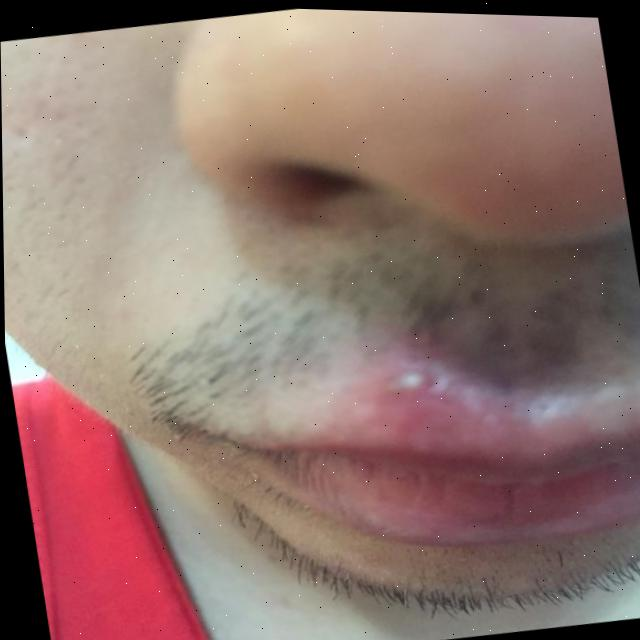Acne: (380, 360, 431, 400)
